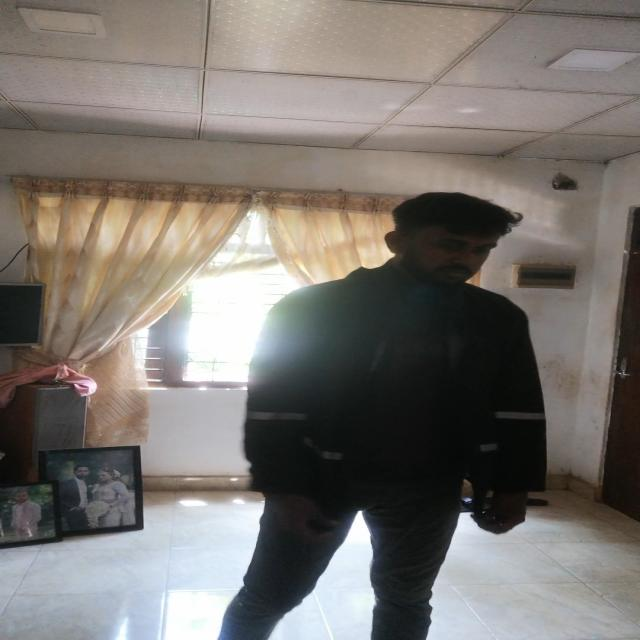Jacket_Wearer: (230, 260, 557, 538)
Person: (227, 190, 560, 640)
